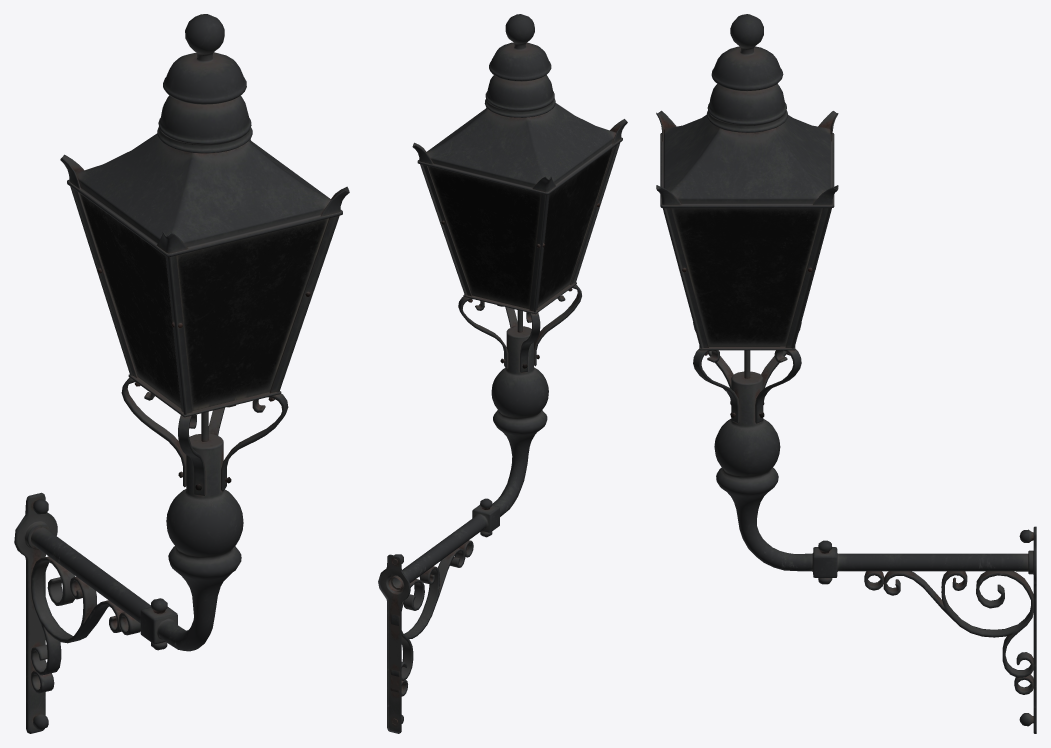
The model's file is street_lamp_02_lod1.glb.
3 renders of one model, left to right at view 1: azimuth 30°, elevation 25°; view 2: azimuth 150°, elevation 25°; view 3: azimuth 270°, elevation 25°, orthographic. The views are drawn at different scales.
Visible parts, largest first — view 1: street_lamp_02; view 2: street_lamp_02; view 3: street_lamp_02.
Part boxes in pixels (bbox=[...]): street_lamp_02: bbox=[14, 14, 349, 733]; street_lamp_02: bbox=[378, 14, 627, 733]; street_lamp_02: bbox=[656, 14, 1036, 733].
Bounding box in the file's own units: 0.3865 × 1.67 × 0.8068.
3 materials, 3 textured.
